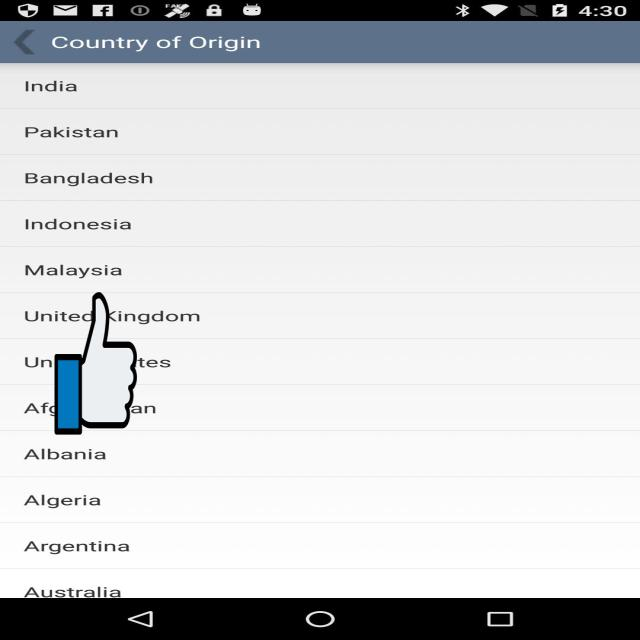privacy zuckering: (54, 289, 137, 438)
